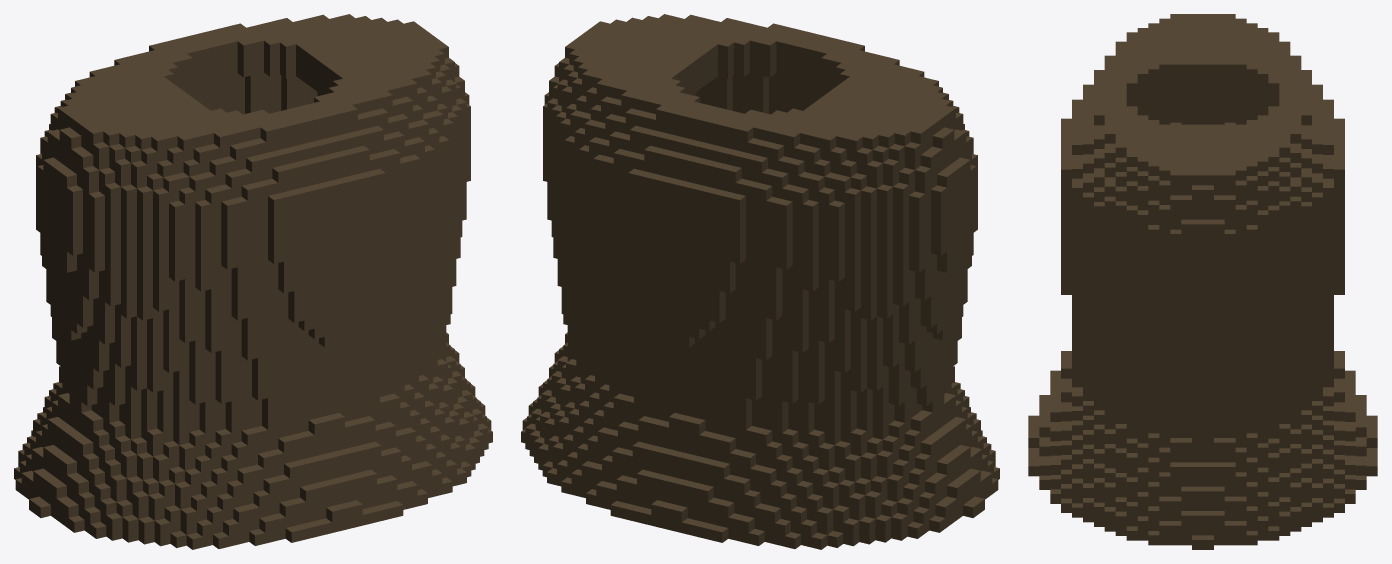
Rendered from quilted_robe.glb.
3 views of the same model, side by side, from view 1: azimuth 30°, elevation 25°; view 2: azimuth 150°, elevation 25°; view 3: azimuth 270°, elevation 25° (orthographic). The views are drawn at different scales.
Parts seen in each view (by area): view 1: quilted_robe; view 2: quilted_robe; view 3: quilted_robe.
Boxes of the visible parts, x1,y1,x2,y2 form: quilted_robe: (14,14,492,549); quilted_robe: (521,14,999,549); quilted_robe: (1028,14,1377,549).
Size of the model in its own units: 0.516 by 0.432 by 0.384.
